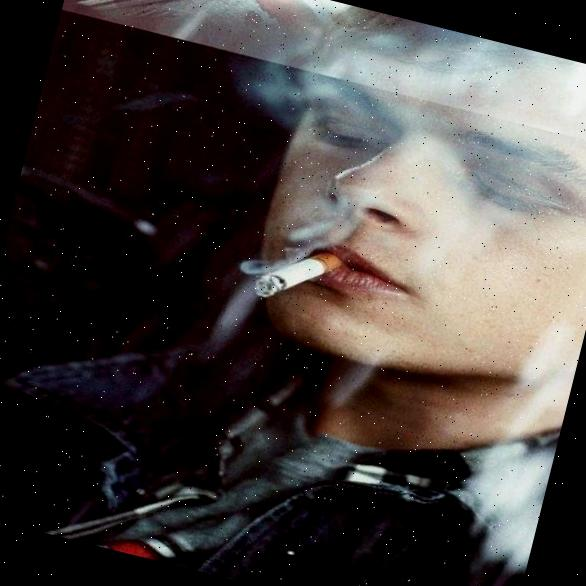smoke: (224, 0, 586, 332), (472, 348, 577, 558)
